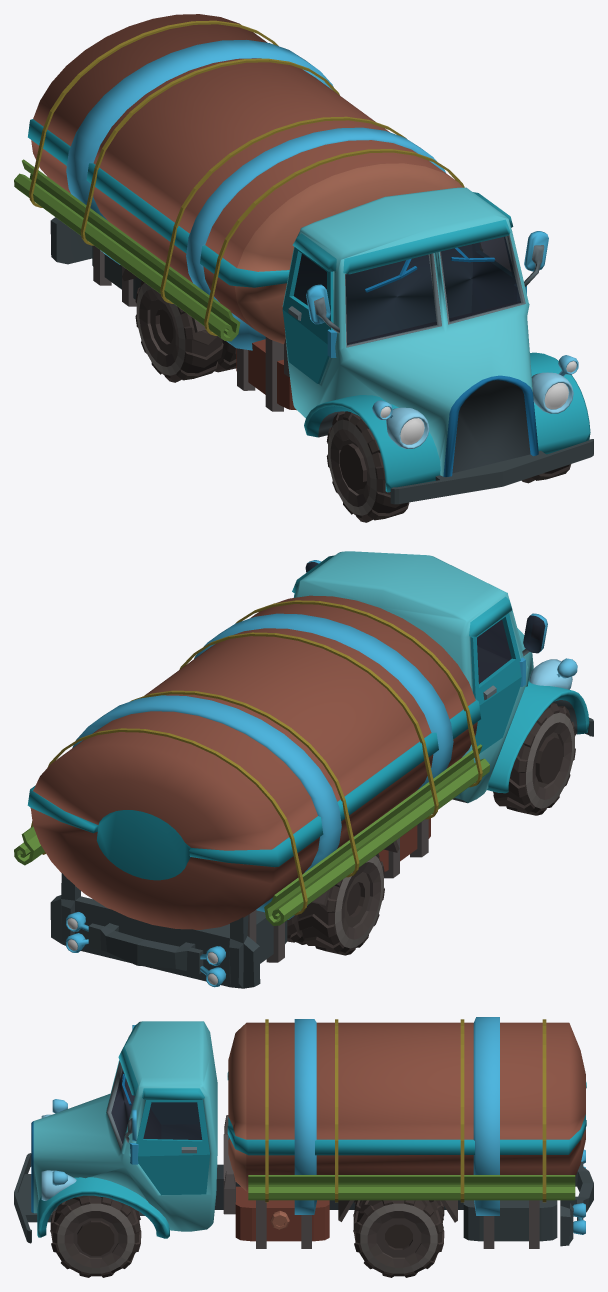
Rendered from waterTruck.glb.
3 views of the same model, one above another, from view 1: azimuth 30°, elevation 25°; view 2: azimuth 150°, elevation 25°; view 3: azimuth 270°, elevation 25° (orthographic). The views are drawn at different scales.
Parts seen in each view (by area): view 1: Cylinder.002, Cube.001, Cylinder.003, Cylinder.001, Vert.002, Gear.001, Gear, Cube.013, Cube.004, Cylinder.007, Cube.006, Cylinder.012 (+7 smaller); view 2: Cylinder.002, Cube.001, Cylinder.003, Cube.016, Vert.002, Gear.001, Gear, Cube.004, Cylinder.001, Cylinder.015, Cylinder.013, Cylinder.012 (+7 smaller); view 3: Cylinder.002, Cube.001, Cylinder.003, Vert.002, Gear.001, Gear.003, Cube.009, Cube.020, Cube.007, Cylinder.001, Cube.016, Cube.013 (+13 smaller).
Part boxes in pixels (x1=…): Cylinder.002: x1=28, y1=14, x2=462, y2=344; Cube.001: x1=282, y1=187, x2=538, y2=476; Cylinder.003: x1=66, y1=40, x2=445, y2=350; Cylinder.001: x1=304, y1=352, x2=590, y2=492; Vert.002: x1=14, y1=159, x2=240, y2=341; Gear.001: x1=135, y1=280, x2=236, y2=382; Gear: x1=326, y1=411, x2=409, y2=522; Cube.013: x1=390, y1=439, x2=593, y2=504; Cube.004: x1=282, y1=247, x2=333, y2=383; Cylinder.007: x1=386, y1=372, x2=573, y2=448; Cube.006: x1=306, y1=231, x2=548, y2=333; Cylinder.012: x1=204, y1=149, x2=464, y2=335; Cylinder.002: x1=27, y1=595, x2=480, y2=929; Cube.001: x1=292, y1=551, x2=533, y2=803; Cylinder.003: x1=72, y1=613, x2=453, y2=919; Cube.016: x1=50, y1=873, x2=260, y2=988; Vert.002: x1=14, y1=744, x2=489, y2=925; Gear.001: x1=287, y1=853, x2=384, y2=955; Gear: x1=493, y1=702, x2=575, y2=815; Cube.004: x1=470, y1=613, x2=521, y2=752; Cylinder.001: x1=487, y1=681, x2=589, y2=793; Cylinder.015: x1=179, y1=632, x2=438, y2=819; Cylinder.013: x1=30, y1=728, x2=307, y2=915; Cylinder.012: x1=235, y1=600, x2=482, y2=787; Cylinder.002: x1=227, y1=1022, x2=586, y2=1191; Cube.001: x1=31, y1=1021, x2=217, y2=1231; Cylinder.003: x1=294, y1=1017, x2=499, y2=1215; Vert.002: x1=248, y1=1175, x2=575, y2=1200; Gear.001: x1=353, y1=1200, x2=444, y2=1277; Gear.003: x1=50, y1=1195, x2=141, y2=1277; Cube.009: x1=136, y1=1099, x2=209, y2=1195; Cube.020: x1=463, y1=1200, x2=557, y2=1241; Cube.007: x1=235, y1=1186, x2=329, y2=1241; Cylinder.001: x1=37, y1=1177, x2=169, y2=1238; Cube.016: x1=560, y1=1161, x2=593, y2=1246; Cube.013: x1=14, y1=1153, x2=52, y2=1243.
Size of the model in its own units: 5.84 by 5.32 by 13.37.
Materials: 4 (2 with a texture image).
